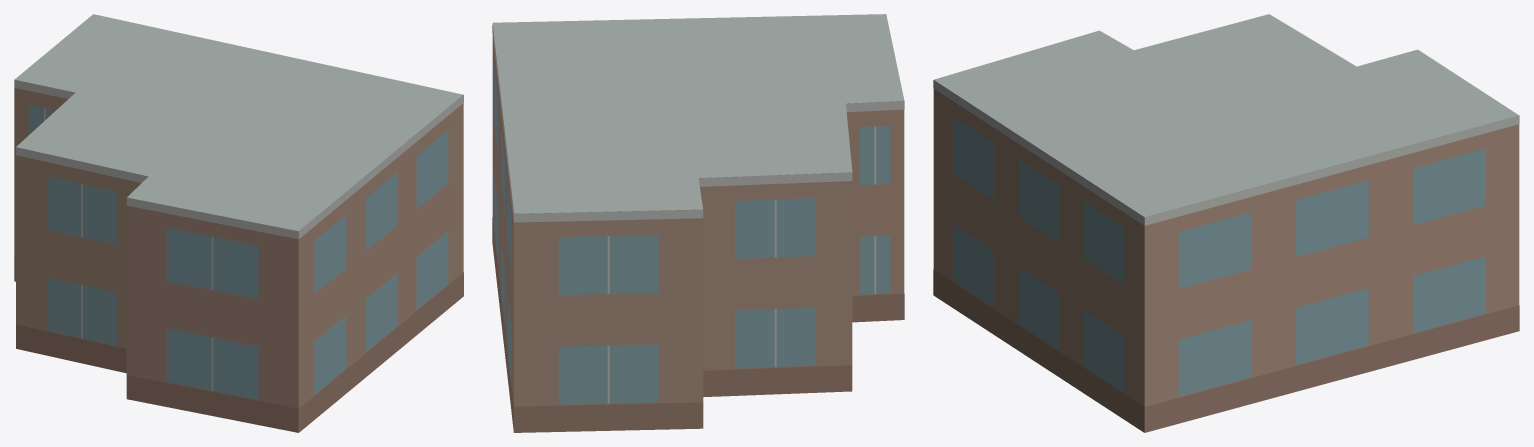
File: survey-upis-32941212.glb
3 views of the same model, side by side, from view 1: azimuth 30°, elevation 25°; view 2: azimuth 150°, elevation 25°; view 3: azimuth 270°, elevation 25° (orthographic). The views are drawn at different scales.
Parts seen in each view (by area): view 1: survey-upis-32941212.tmp; view 2: survey-upis-32941212.tmp; view 3: survey-upis-32941212.tmp.
Part boxes in pixels (x1,y1,x2,y2): survey-upis-32941212.tmp: (14,14,463,432); survey-upis-32941212.tmp: (492,14,904,432); survey-upis-32941212.tmp: (933,14,1519,432).
Bounding box in the file's own units: 12.34 × 6.1 × 15.04.
